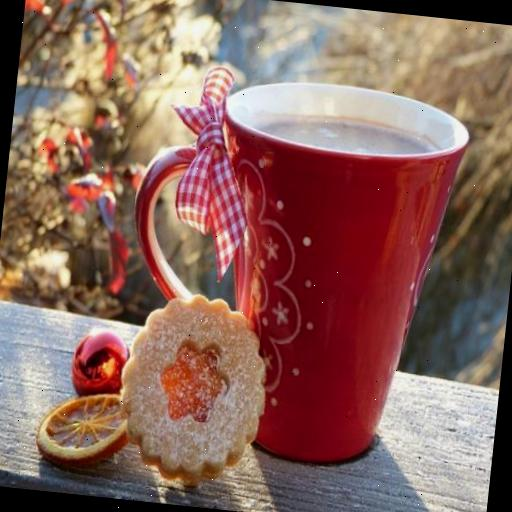cup: (110, 64, 474, 476)
